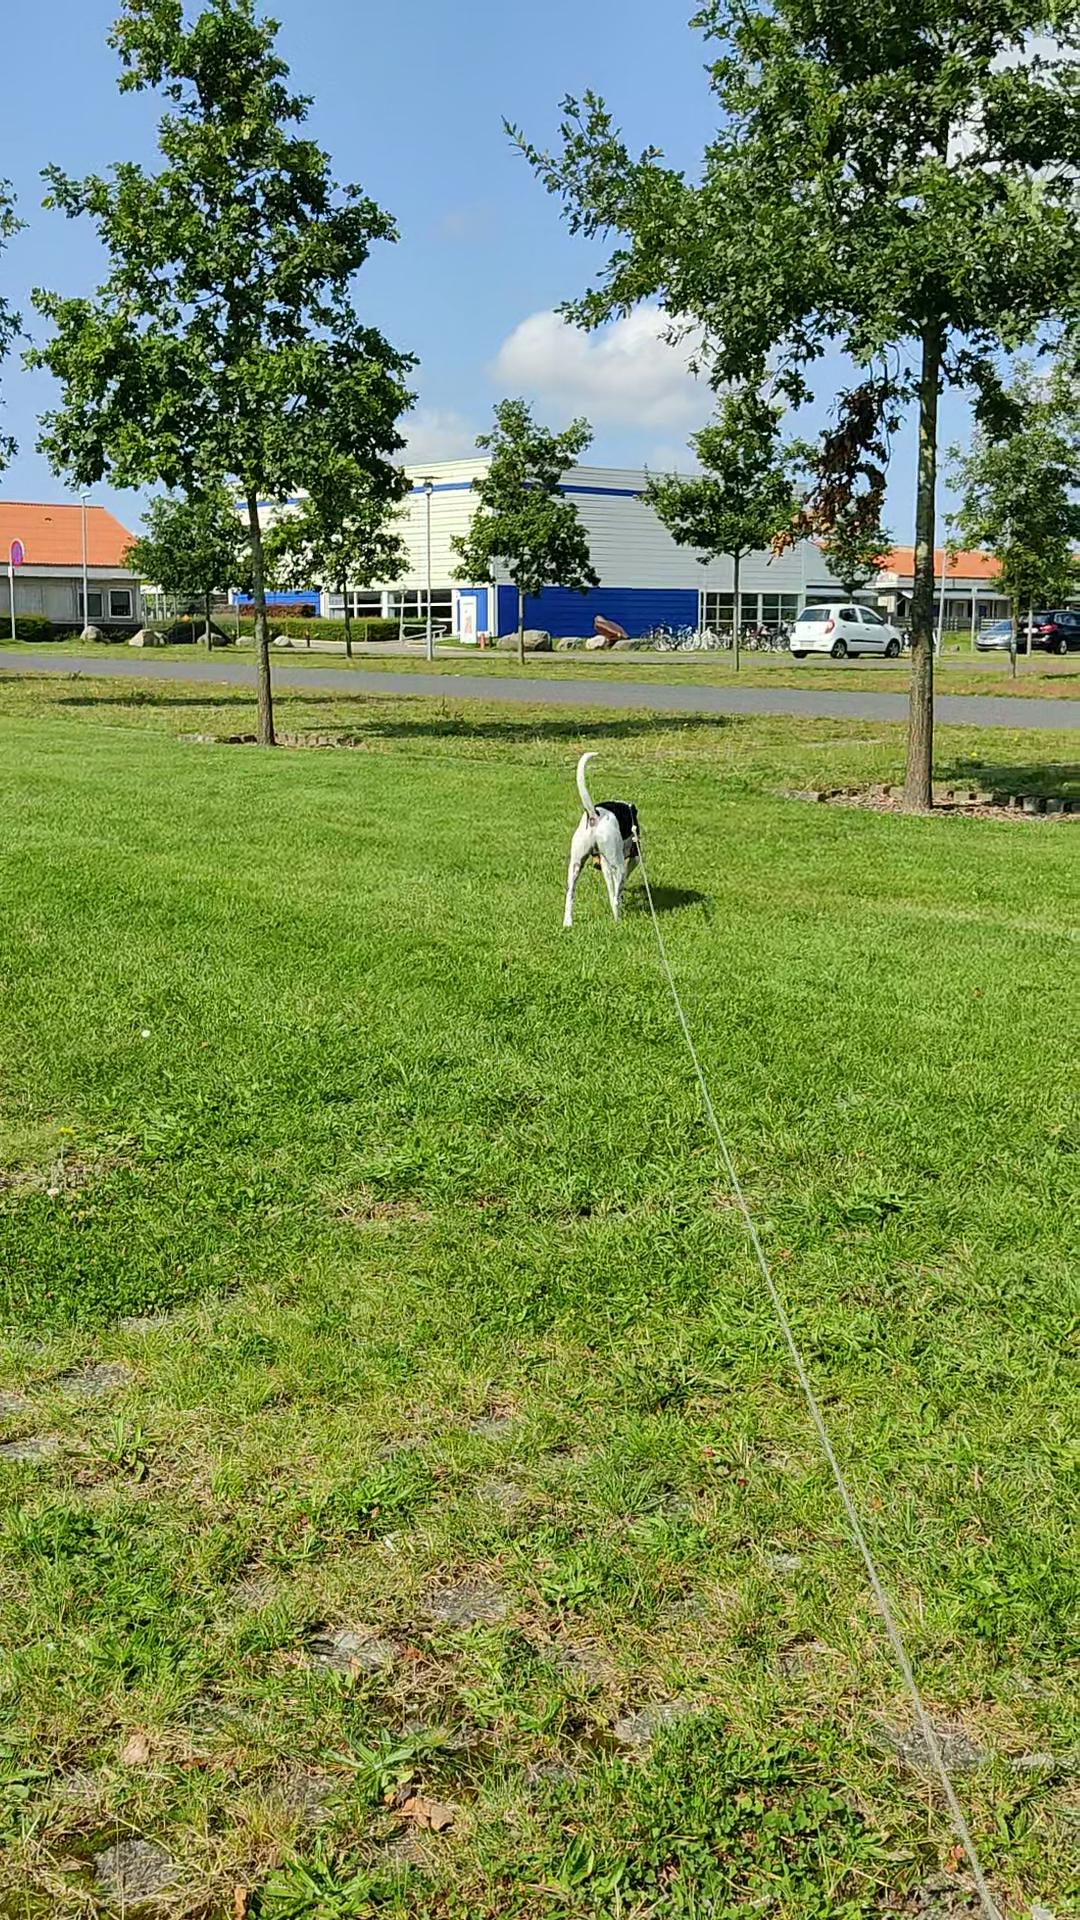Dog: (534, 746, 659, 935)
